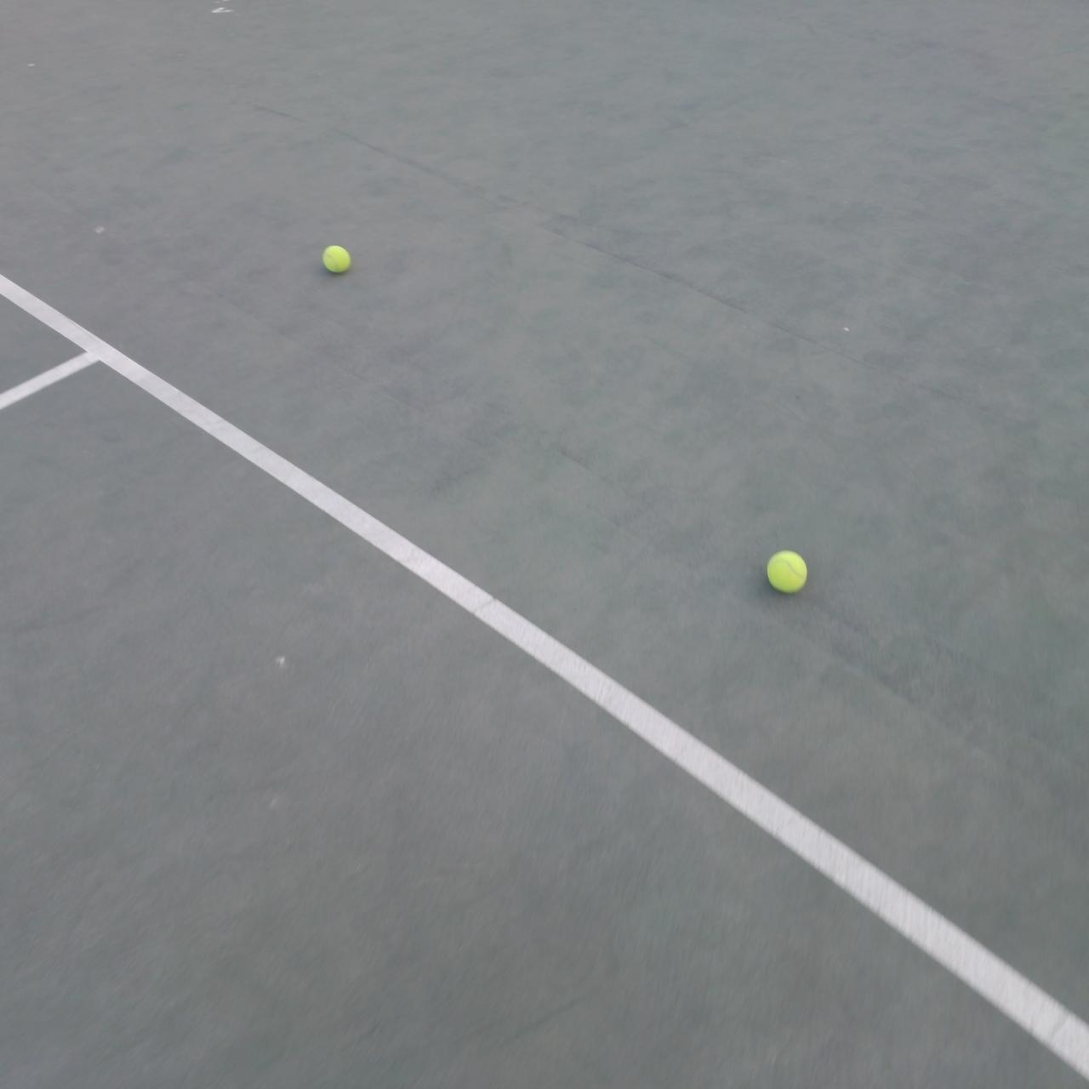tennis-ball: (766, 546, 810, 594), (322, 242, 353, 274)
